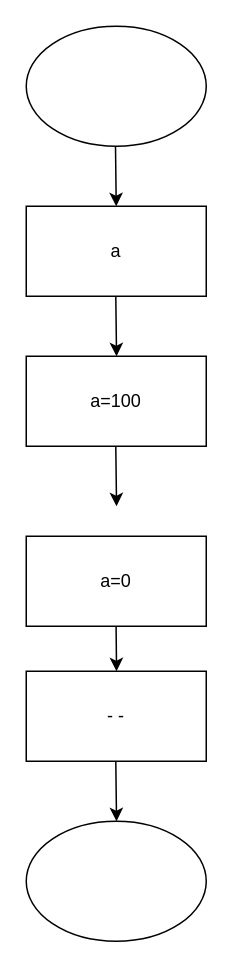
This 233x968 diagram has some shape labels left out. Here are the shapes that lost their labels. From the top down, the centre of each, then its label:
At (x=115, y=85): "inicio".
At (x=115, y=880): "fin".
